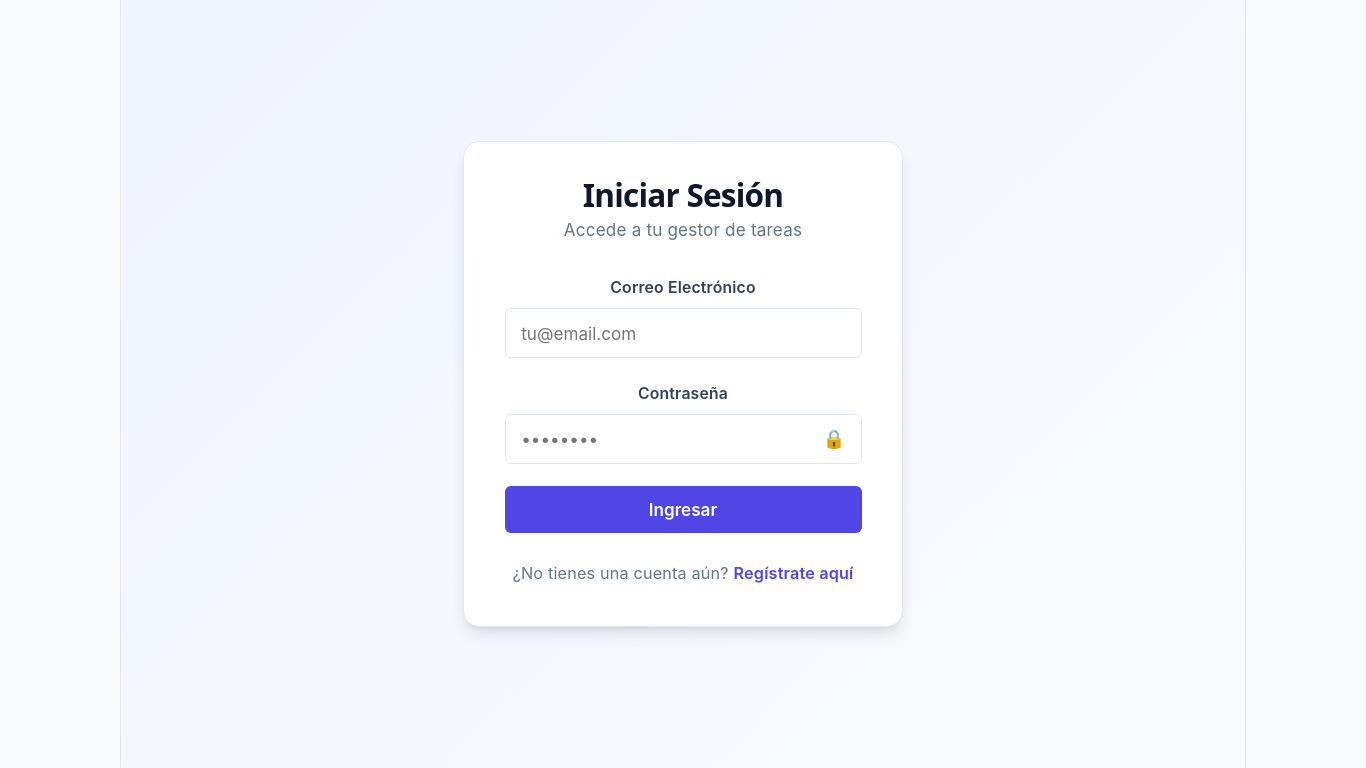
Scenario: Login Page › muestra el mensaje de error cuando loginUser falla
Type "test@example.com" into the field labelled "Correo Electrónico" at (683,333), box [504, 308, 862, 358]
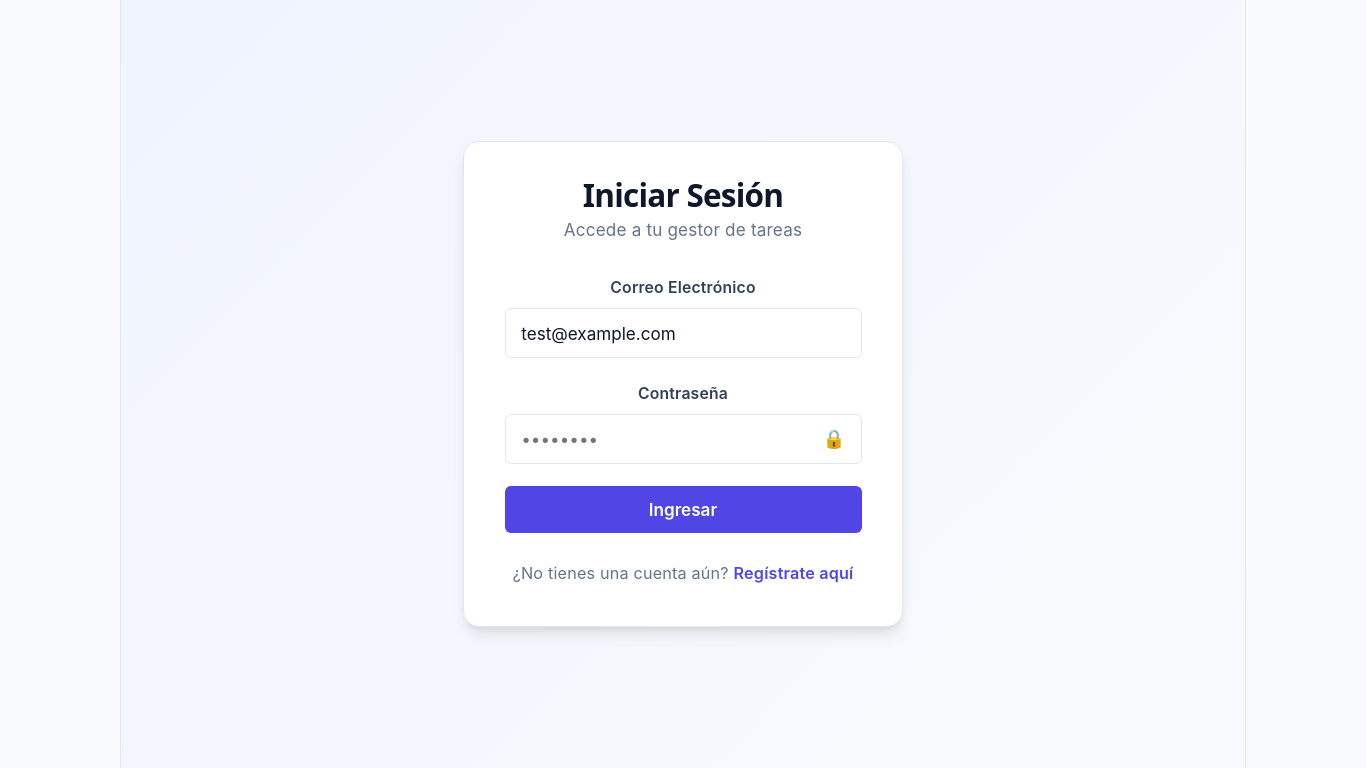
Type "wrongpass" into the password field labelled "Contraseña" at (683,439), box [504, 414, 862, 464]
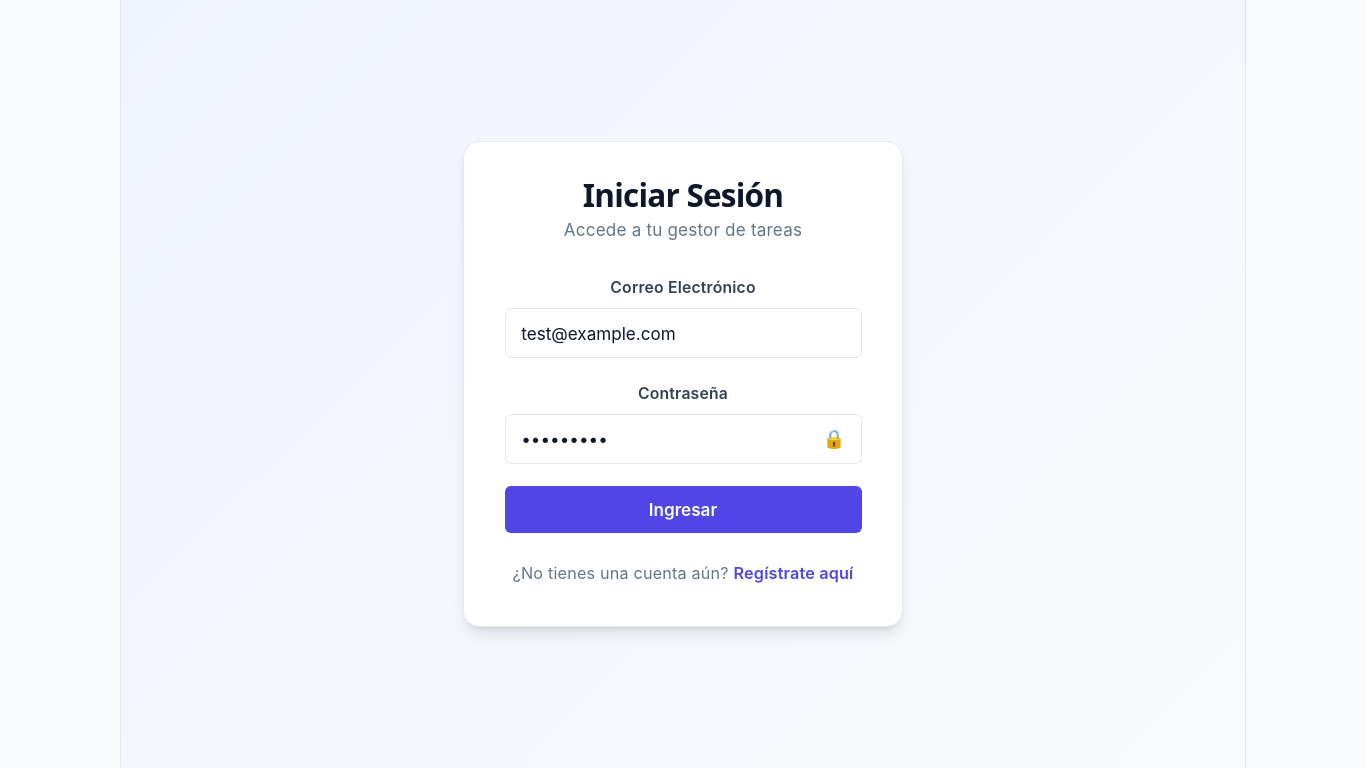
Click the button "Ingresar" at (683,510), box [504, 486, 862, 533]
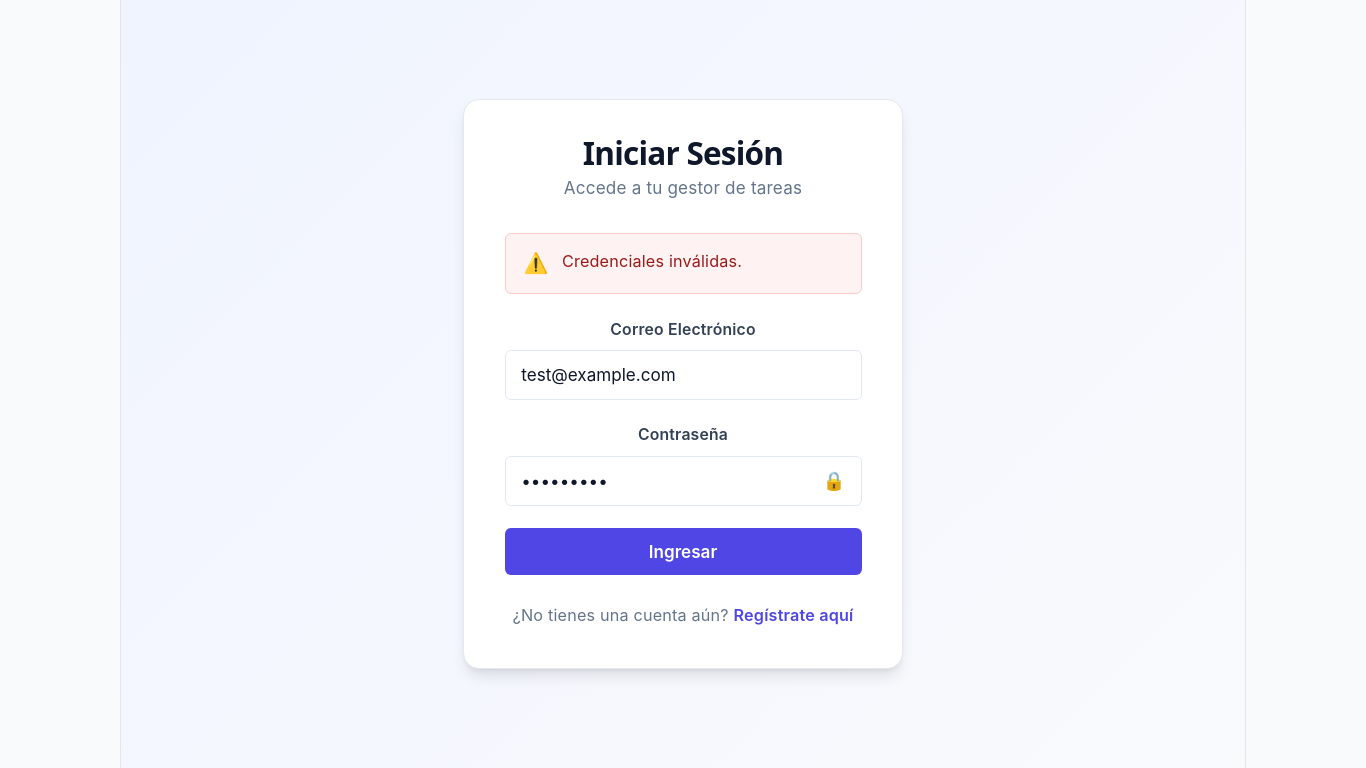
Expected: the message shows "Credenciales inválidas.", [562, 251, 742, 271]
